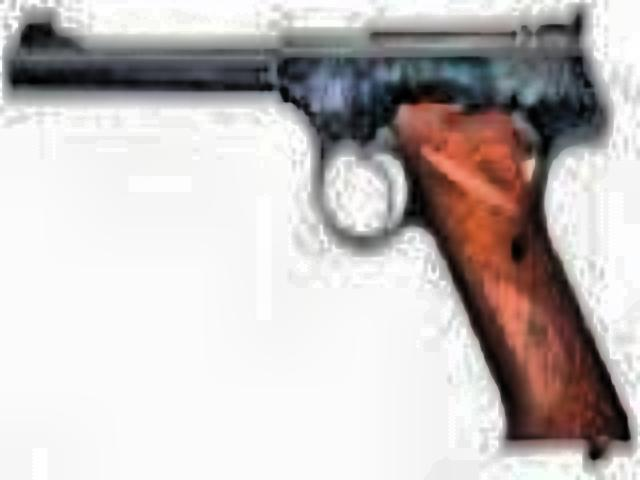pistol: (4, 4, 632, 440)
